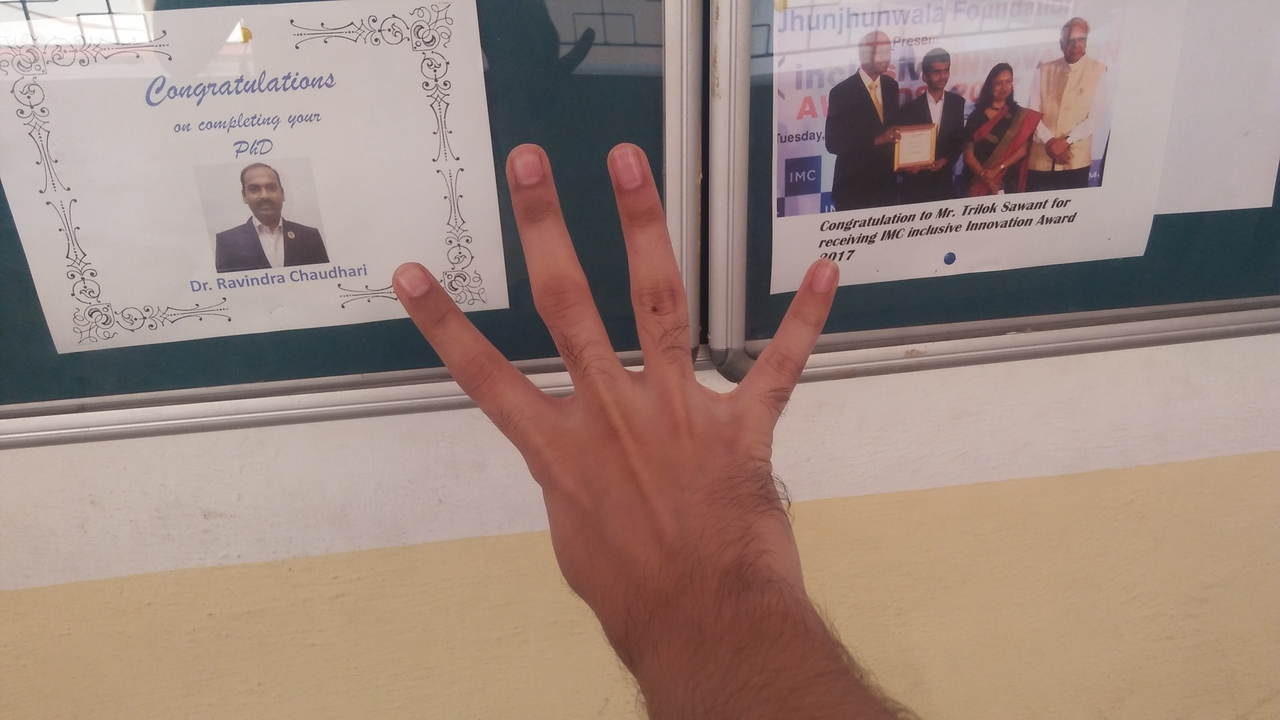fingertip: (594, 132, 660, 192), (498, 134, 560, 188), (382, 254, 444, 306), (796, 250, 854, 304)
